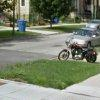Motorcycle: (52, 35, 100, 65)
